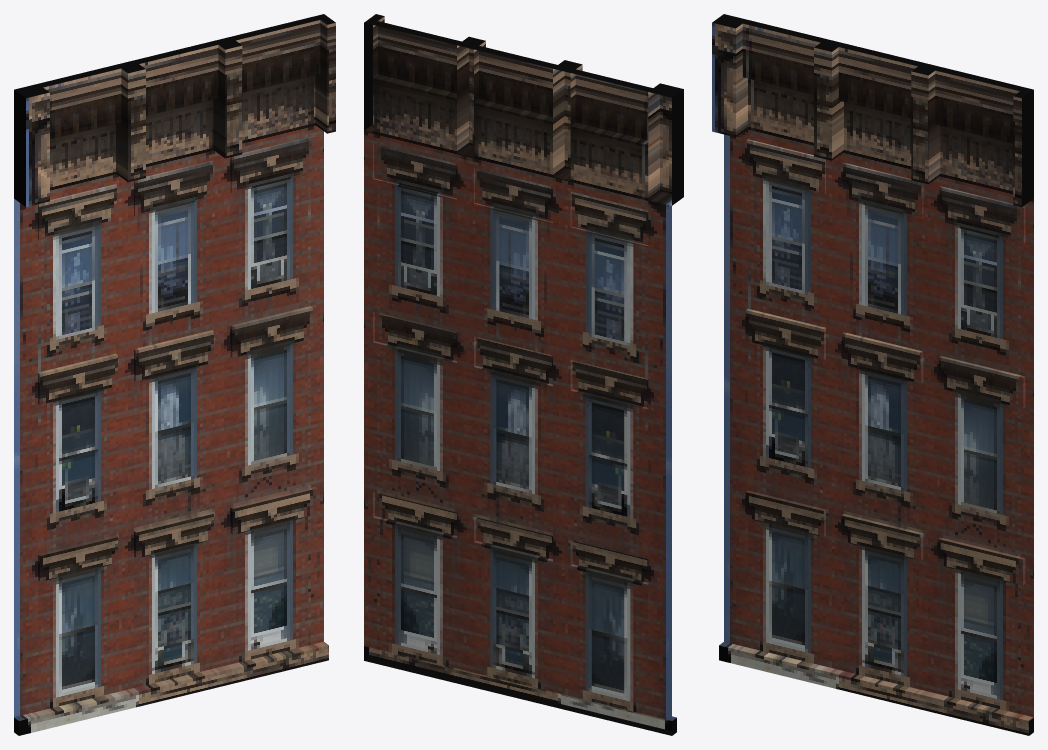
File: untitlBuilding.fbx
The picture shows the model from 3 angles, left to right: view 1: azimuth 30°, elevation 25°; view 2: azimuth 150°, elevation 25°; view 3: azimuth 330°, elevation 25°; orthographic projection.
Visible parts, largest first — view 1: download; view 2: download; view 3: download.
Boxes of the visible parts, x1,y1,x2,y2 form: download: (14,14,335,735); download: (364,14,683,735); download: (712,14,1033,735).
Size of the model in its own units: 50.49 by 100 by 3.36.
